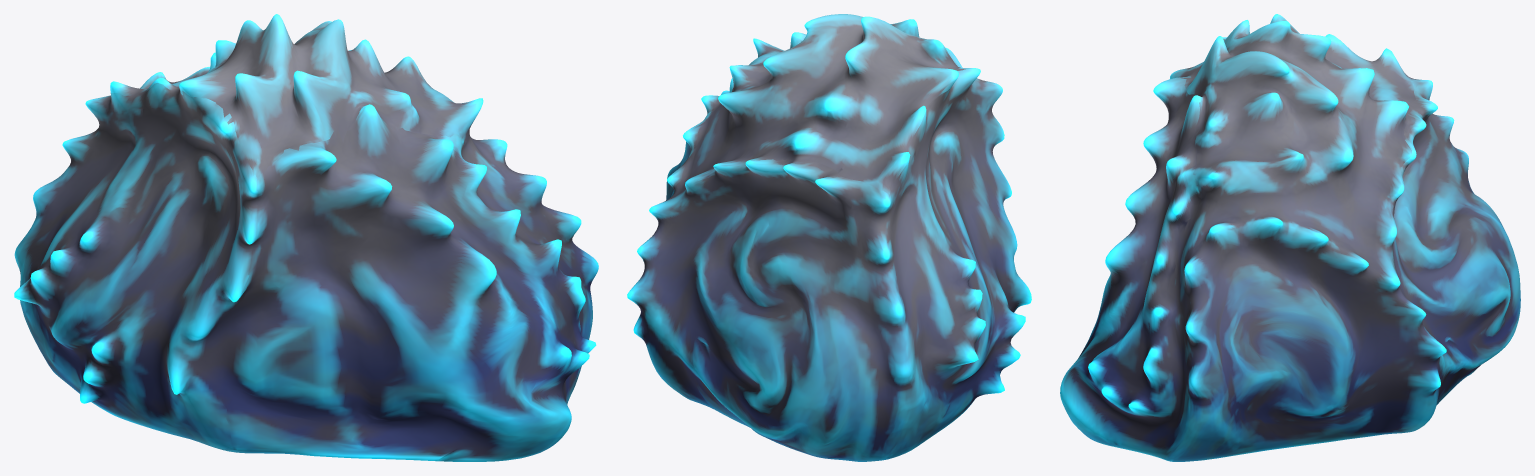
The model's file is Rock.fbx.
The picture shows the model from 3 angles, left to right: view 1: azimuth 30°, elevation 25°; view 2: azimuth 150°, elevation 25°; view 3: azimuth 270°, elevation 25°; orthographic projection. The views are drawn at different scales.
Visible parts, largest first — view 1: Cube; view 2: Cube; view 3: Cube.
Part boxes in pixels (<box>): Cube: <box>14,14,598,461</box>; Cube: <box>627,14,1031,461</box>; Cube: <box>1060,14,1520,461</box>.
Size of the model in its own units: 159 by 132 by 154.
